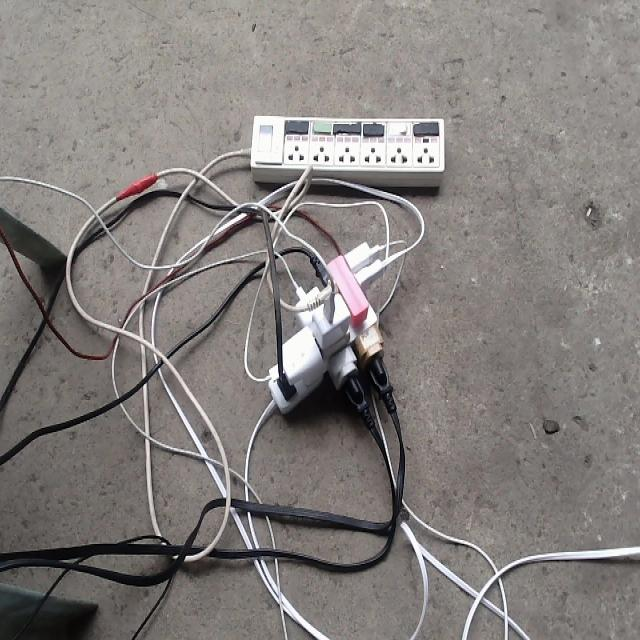-: (263, 240, 395, 417)
